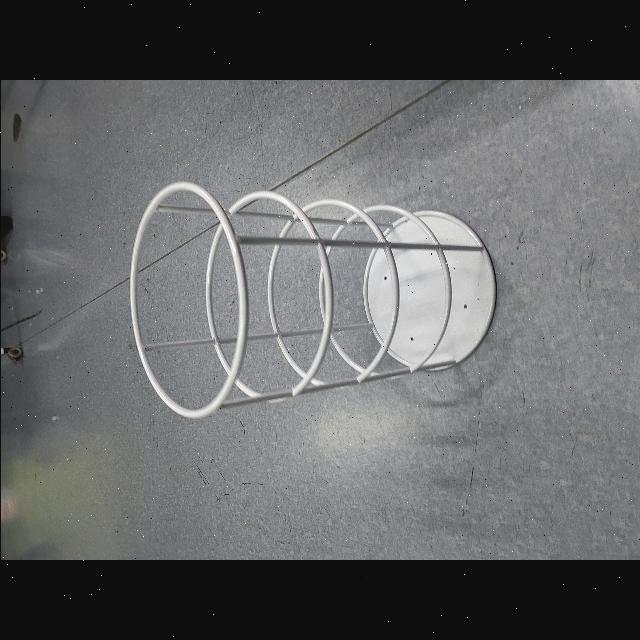S: (124, 178, 500, 424)
